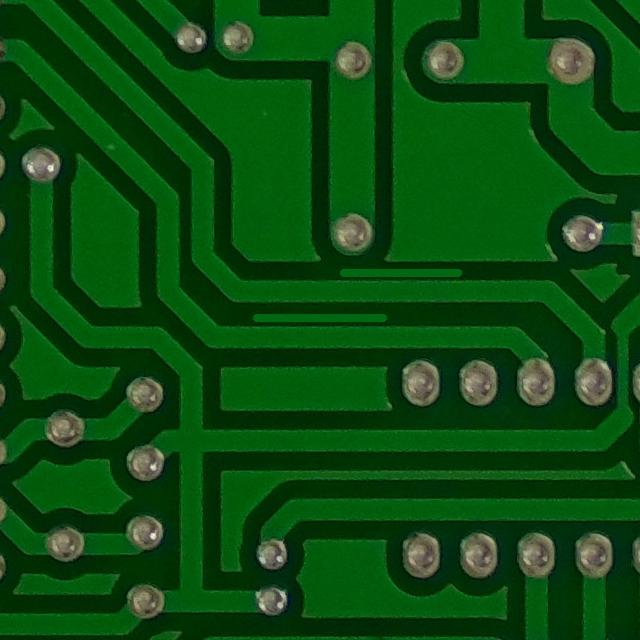spurious_copper: (247, 302, 394, 338)
